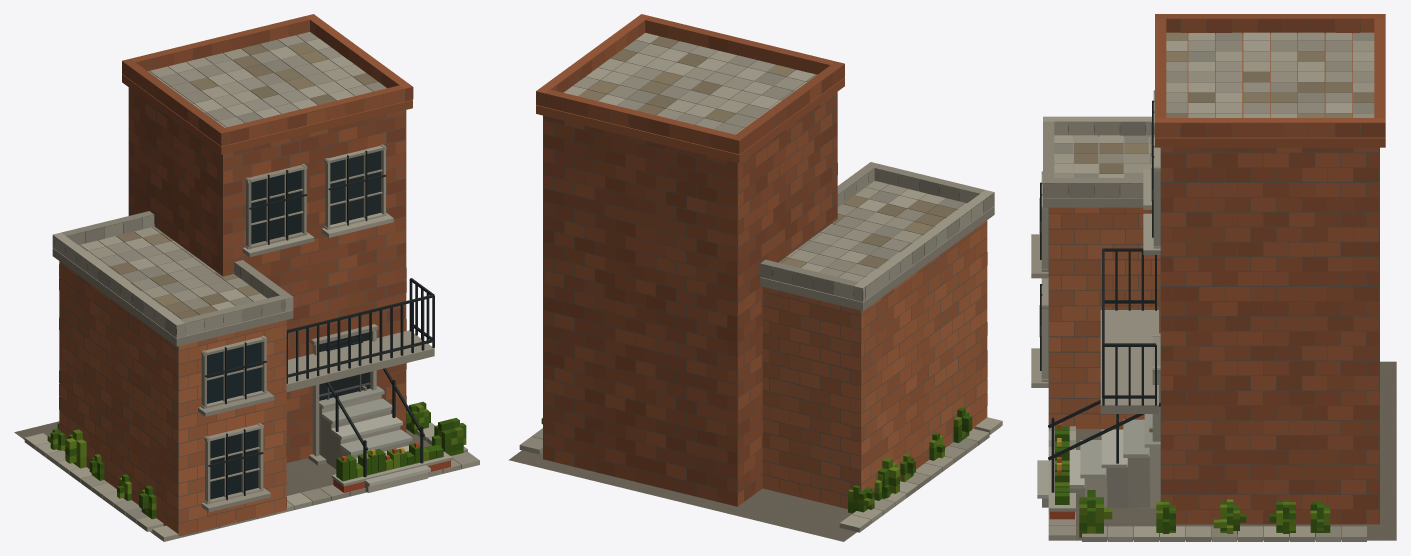
Rendered from SM_Mapa_066.fbx.
The picture shows the model from 3 angles, left to right: view 1: azimuth 30°, elevation 25°; view 2: azimuth 150°, elevation 25°; view 3: azimuth 270°, elevation 25°; orthographic projection. The views are drawn at different scales.
Visible parts, largest first — view 1: SM_Mapa_066; view 2: SM_Mapa_066; view 3: SM_Mapa_066.
Boxes of the visible parts, left/top/right/bottom form: SM_Mapa_066: left=14, top=14, right=479, bottom=541; SM_Mapa_066: left=508, top=14, right=1002, bottom=541; SM_Mapa_066: left=1031, top=14, right=1396, bottom=541.
Size of the model in its own units: 8 by 6.79 by 8.33.
